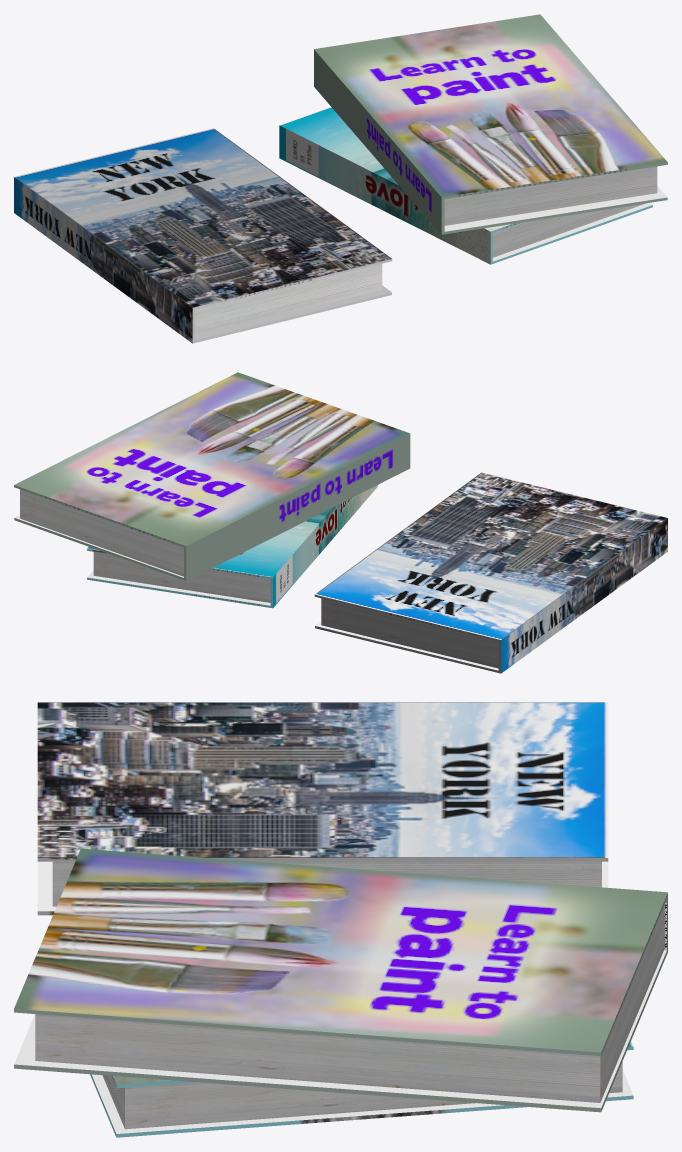
Rendered from books 10.fbx.
The picture shows the model from 3 angles, top to bottom: view 1: azimuth 30°, elevation 25°; view 2: azimuth 150°, elevation 25°; view 3: azimuth 270°, elevation 25°; orthographic projection. The views are drawn at different scales.
Visible parts, largest first — view 1: Books 10; view 2: Books 10; view 3: Books 10.
Boxes of the visible parts, <box> form: Books 10: <box>14,14,667,343</box>; Books 10: <box>14,372,667,673</box>; Books 10: <box>14,702,667,1137</box>.
Size of the model in its own units: 44.35 by 5.86 by 29.99.
Materials: 1 (1 with a texture image).
